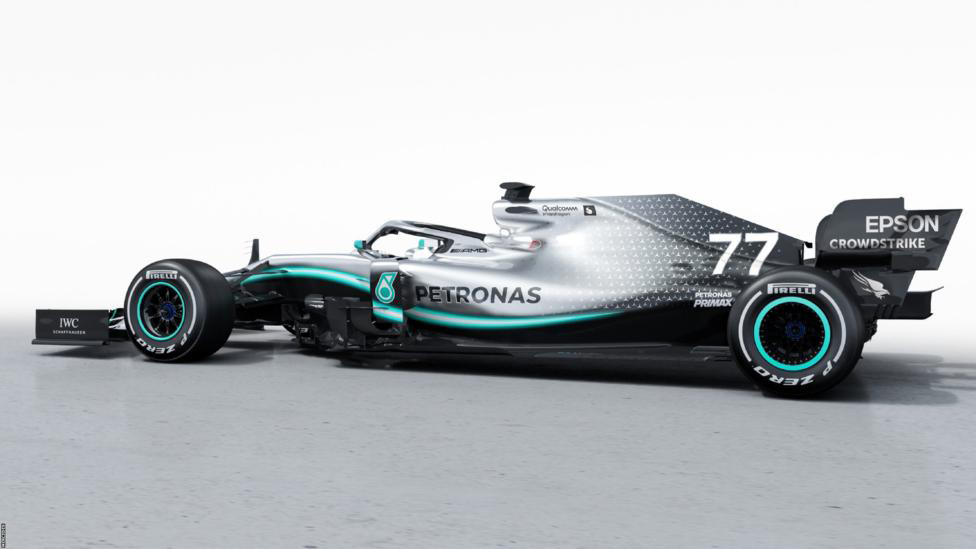F1 Car: (32, 180, 963, 405)
